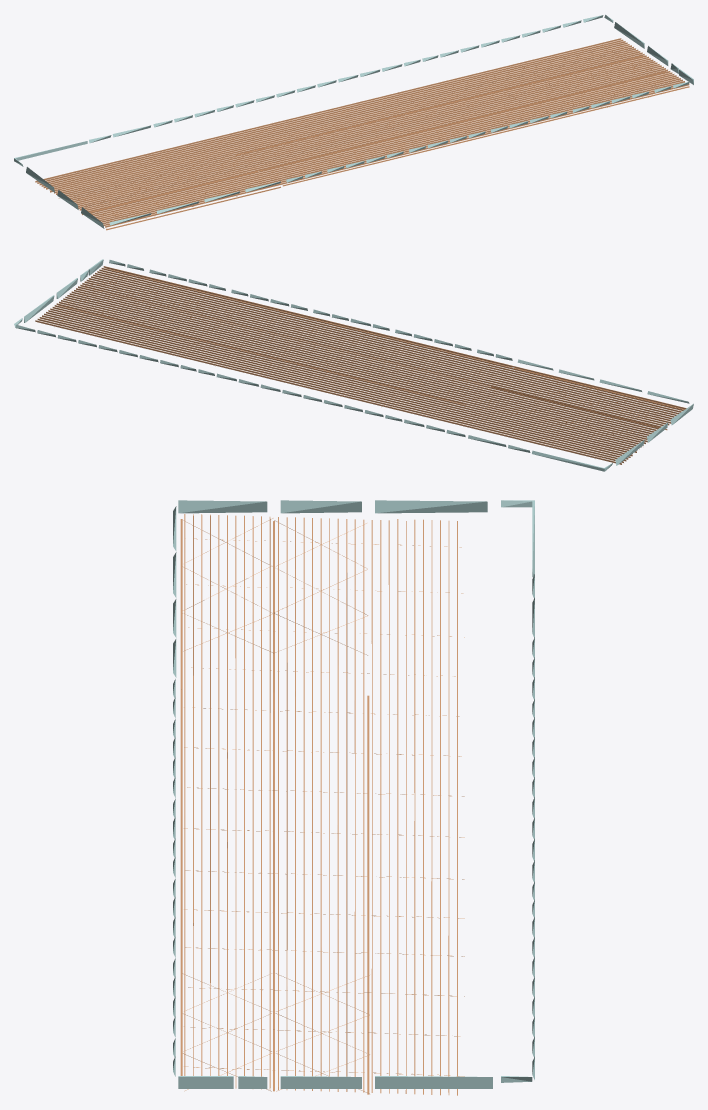
File: structure-5-rf.glb
The picture shows the model from 3 angles, top to bottom: view 1: azimuth 30°, elevation 25°; view 2: azimuth 150°, elevation 25°; view 3: azimuth 270°, elevation 25°; orthographic projection. The views are drawn at different scales.
Size of the model in its own units: 104 by 1.81 by 27.6.
